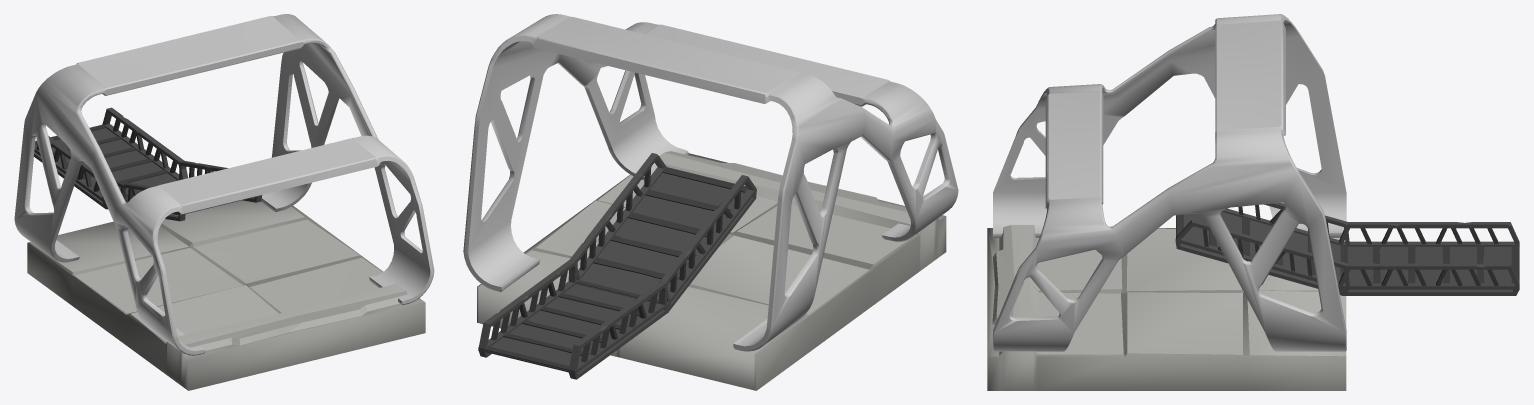
The model's file is station.glb.
3 renders of one model, left to right at view 1: azimuth 30°, elevation 25°; view 2: azimuth 150°, elevation 25°; view 3: azimuth 270°, elevation 25°, orthographic. The views are drawn at different scales.
Parts seen in each view (by area): view 1: SM_Env_Sidewalk_Straight_01_SF__79_.001, Detail_Symmetry_13_01.001, SM_Prop_Bridge_01__1_.003, SM_Prop_Bridge_01__1_.002; view 2: Detail_Symmetry_13_01.001, SM_Env_Sidewalk_Straight_01_SF__79_.001, SM_Prop_Bridge_01__1_.002, SM_Prop_Bridge_01__1_.003; view 3: Detail_Symmetry_13_01.001, SM_Env_Sidewalk_Straight_01_SF__79_.001, SM_Prop_Bridge_01__1_.003, SM_Prop_Bridge_01__1_.002.
Part boxes in pixels (x1,y1,x2,y2): SM_Env_Sidewalk_Straight_01_SF__79_.001: (27, 200, 425, 390); Detail_Symmetry_13_01.001: (14, 14, 434, 355); SM_Prop_Bridge_01__1_.003: (34, 107, 188, 208); SM_Prop_Bridge_01__1_.002: (102, 161, 262, 221); Detail_Symmetry_13_01.001: (463, 14, 958, 351); SM_Env_Sidewalk_Straight_01_SF__79_.001: (477, 151, 946, 390); SM_Prop_Bridge_01__1_.002: (568, 153, 756, 310); SM_Prop_Bridge_01__1_.003: (478, 260, 670, 379); Detail_Symmetry_13_01.001: (993, 14, 1346, 351); SM_Env_Sidewalk_Straight_01_SF__79_.001: (987, 225, 1346, 390); SM_Prop_Bridge_01__1_.003: (1338, 222, 1519, 295); SM_Prop_Bridge_01__1_.002: (1175, 203, 1349, 295).
Bounding box in the file's own units: 9.32 × 7.69 × 14.69.
3 materials, 2 textured.
